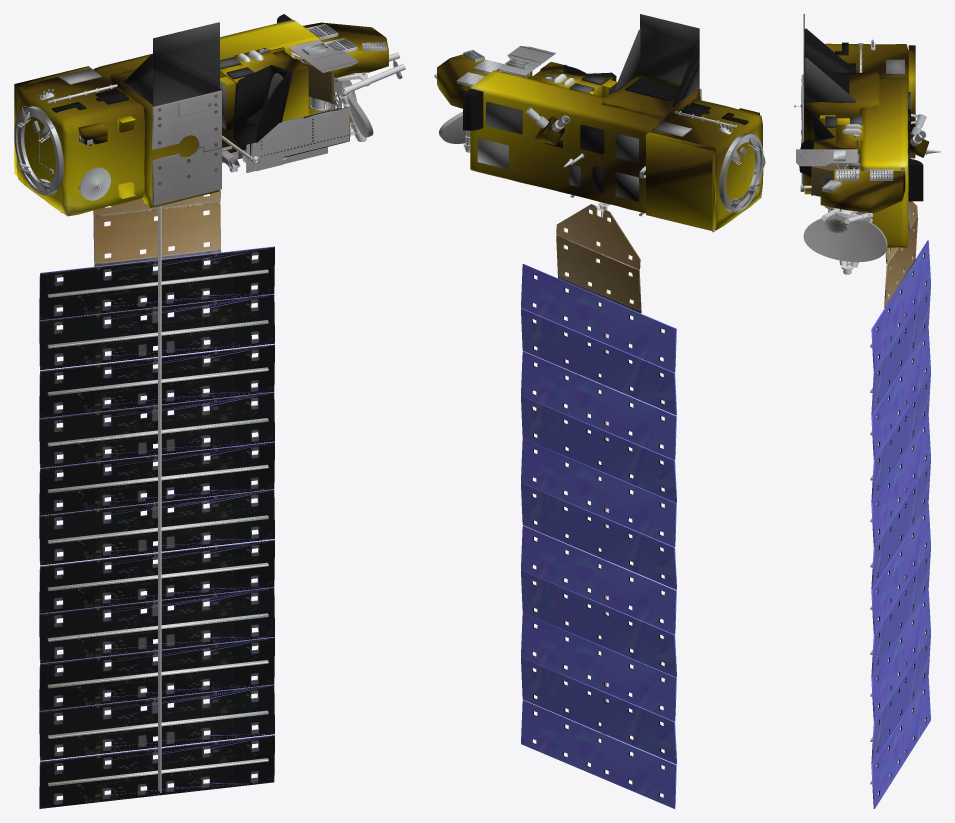
File: aura-satellite.glb
3 renders of one model, left to right at view 1: azimuth 30°, elevation 25°; view 2: azimuth 150°, elevation 25°; view 3: azimuth 270°, elevation 25°, orthographic. The views are drawn at different scales.
Parts seen in each view (by area): view 1: tex_01b, foil_gold, tex_01c, shiny_panel, tex_01, foil_silver, black_krinkle, tex_01d; view 2: shiny_panel, foil_gold, foil_silver, tex_01b, black_krinkle, tex_01, tex_01c; view 3: shiny_panel, foil_gold, tex_01, foil_silver, tex_01b, black_krinkle, tex_01d, tex_01c.
Part boxes in pixels (bbox=[...]): tex_01b: bbox=[39, 91, 339, 808]; foil_gold: bbox=[14, 19, 388, 216]; tex_01c: bbox=[14, 81, 238, 212]; shiny_panel: bbox=[39, 246, 274, 808]; tex_01: bbox=[222, 23, 402, 172]; foil_silver: bbox=[59, 22, 254, 106]; black_krinkle: bbox=[52, 14, 293, 145]; tex_01d: bbox=[290, 52, 405, 141]; shiny_panel: bbox=[521, 264, 676, 808]; foil_gold: bbox=[437, 54, 763, 230]; foil_silver: bbox=[477, 14, 699, 201]; tex_01b: bbox=[532, 202, 664, 798]; black_krinkle: bbox=[463, 65, 748, 192]; tex_01: bbox=[439, 46, 574, 195]; tex_01c: bbox=[559, 83, 765, 232]; shiny_panel: bbox=[871, 240, 930, 808]; foil_gold: bbox=[804, 43, 929, 247]; tex_01: bbox=[796, 115, 926, 262]; foil_silver: bbox=[803, 14, 910, 232]; tex_01b: bbox=[856, 201, 926, 796]; black_krinkle: bbox=[799, 42, 923, 201]; tex_01d: bbox=[813, 163, 872, 274]; tex_01c: bbox=[794, 39, 940, 191].
Size of the model in its own units: 8.73 by 18.7 by 3.43.
Materials: 6 (4 with a texture image).
